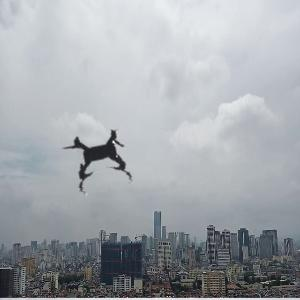drone: (40, 98, 163, 221)
